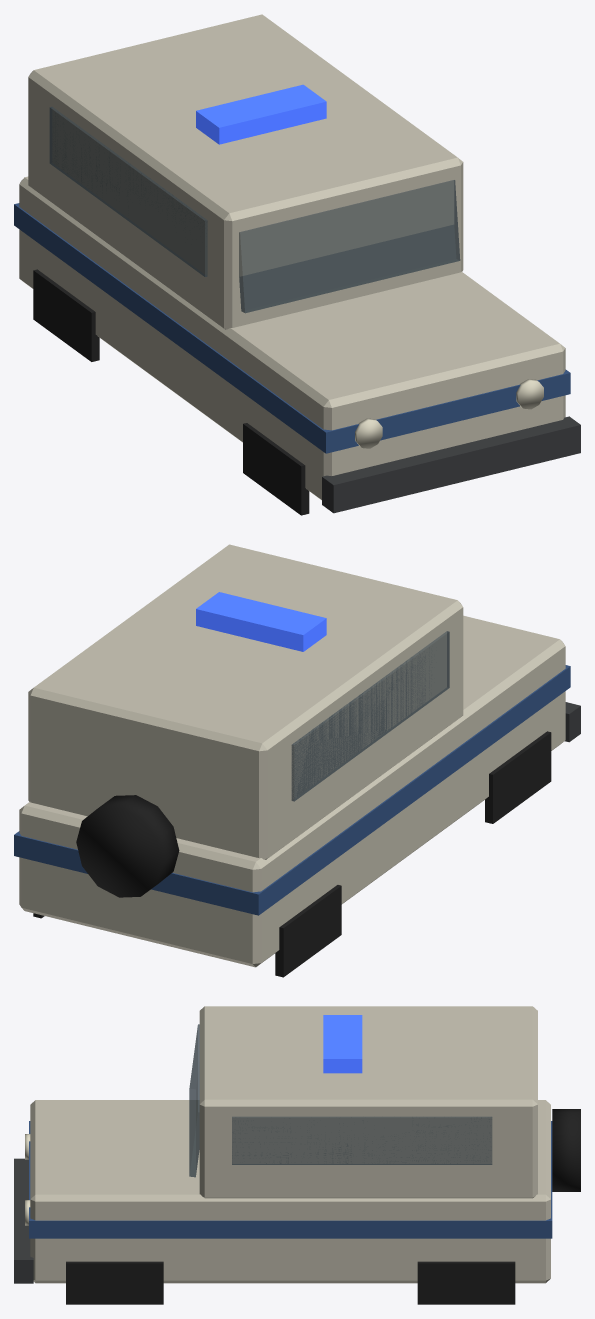
Rendered from uaz_body.glb.
3 views of the same model, one above another, from view 1: azimuth 30°, elevation 25°; view 2: azimuth 150°, elevation 25°; view 3: azimuth 270°, elevation 25° (orthographic). The views are drawn at different scales.
Parts seen in each view (by area): view 1: Body; view 2: Body; view 3: Body.
Boxes of the visible parts, x1=… form: Body: x1=14, y1=14, x2=580, y2=515; Body: x1=14, y1=544, x2=580, y2=977; Body: x1=14, y1=1006, x2=580, y2=1304.
Size of the model in its own units: 1.86 by 1.83 by 4.36.
